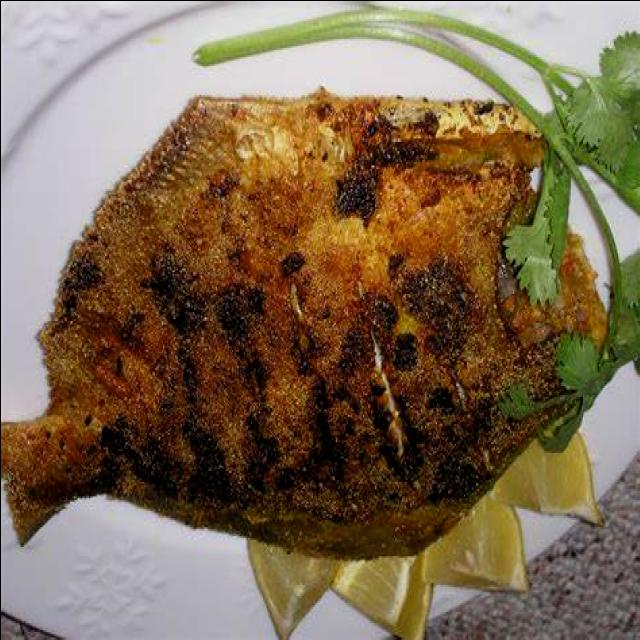ikan bakar: (0, 96, 606, 559)
